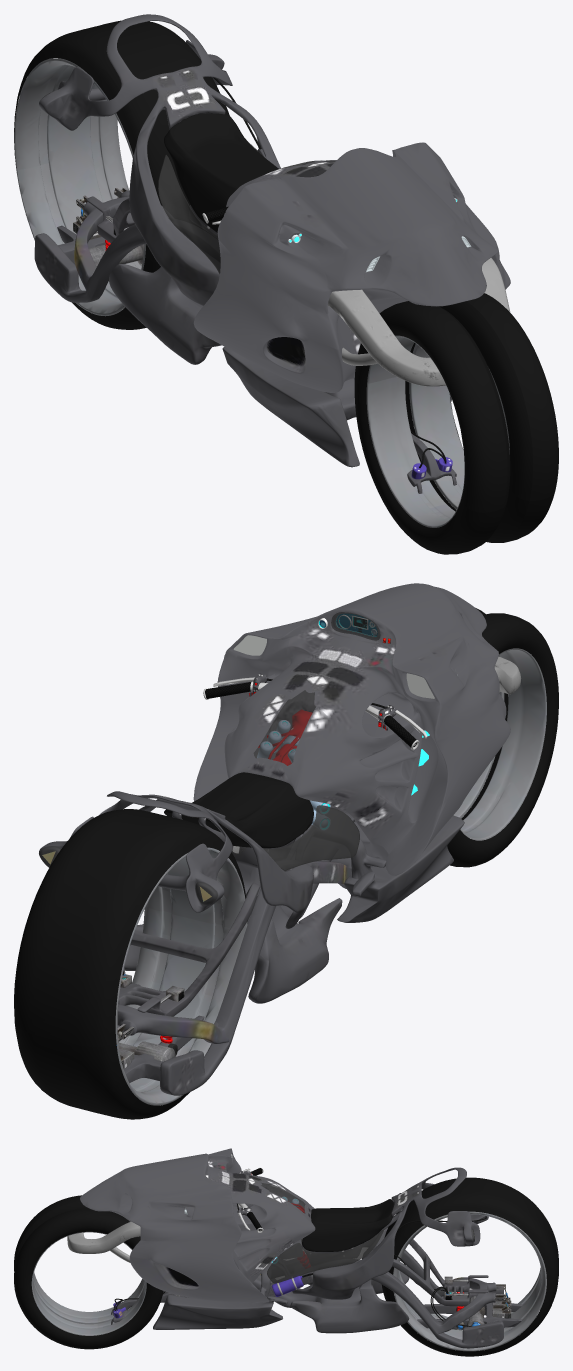
Rendered from phantom-bike.glb.
3 renders of one model, top to bottom at view 1: azimuth 30°, elevation 25°; view 2: azimuth 150°, elevation 25°; view 3: azimuth 270°, elevation 25°, orthographic. The views are drawn at different scales.
Visible parts, largest first — view 1: Cube.028_cor_base02.004_0, Cube.001_Pneu_0, Cube.004_roda_0, Cube.002_cor_base02_0, NurbsPath.002_DefaultMaterial.001_0, Cube.021_cor_base02.003_0, Cube.007_metal02.002_0, Cube.030_metal02.003_0, Cube.014_vidro_0, Cube.022_DefaultMaterial_0, Cube.009_Cromo_0; view 2: Cube.028_cor_base02.004_0, Cube.001_Pneu_0, Cube.004_roda_0, Cube.002_cor_base02_0, Cube.021_cor_base02.003_0, Cube.007_metal02.002_0, Cube.014_vidro_0, NurbsPath.002_DefaultMaterial.001_0, Cube.027_Cromo.004_0, Cube.009_Cromo_0, Cube.023_espelho_0, Cube.011_borracha.001_0 (+2 smaller); view 3: Cube.028_cor_base02.004_0, Cube.001_Pneu_0, Cube.002_cor_base02_0, Cube.021_cor_base02.003_0, Cube.004_roda_0, Cube.007_metal02.002_0, NurbsPath.002_DefaultMaterial.001_0, Cube.014_vidro_0, Cube.030_metal02.003_0, Cube.009_Cromo_0, Cube.022_DefaultMaterial_0.
Boxes of the visible parts, bbox=[...] form: Cube.028_cor_base02.004_0: bbox=[193, 142, 510, 392]; Cube.001_Pneu_0: bbox=[14, 20, 558, 554]; Cube.004_roda_0: bbox=[14, 58, 509, 527]; Cube.002_cor_base02_0: bbox=[39, 14, 451, 467]; NurbsPath.002_DefaultMaterial.001_0: bbox=[164, 77, 446, 468]; Cube.021_cor_base02.003_0: bbox=[86, 196, 221, 364]; Cube.007_metal02.002_0: bbox=[34, 190, 356, 420]; Cube.030_metal02.003_0: bbox=[327, 258, 510, 386]; Cube.014_vidro_0: bbox=[42, 92, 314, 274]; Cube.022_DefaultMaterial_0: bbox=[407, 433, 456, 493]; Cube.009_Cromo_0: bbox=[73, 187, 144, 267]; Cube.028_cor_base02.004_0: bbox=[193, 583, 510, 875]; Cube.001_Pneu_0: bbox=[14, 608, 558, 1119]; Cube.004_roda_0: bbox=[115, 648, 546, 1105]; Cube.002_cor_base02_0: bbox=[39, 791, 464, 928]; Cube.021_cor_base02.003_0: bbox=[118, 859, 342, 1016]; Cube.007_metal02.002_0: bbox=[117, 857, 351, 1095]; Cube.014_vidro_0: bbox=[39, 612, 380, 905]; NurbsPath.002_DefaultMaterial.001_0: bbox=[122, 678, 385, 975]; Cube.027_Cromo.004_0: bbox=[257, 709, 330, 824]; Cube.009_Cromo_0: bbox=[116, 974, 184, 1068]; Cube.023_espelho_0: bbox=[233, 635, 457, 698]; Cube.011_borracha.001_0: bbox=[205, 681, 416, 747]; Cube.028_cor_base02.004_0: bbox=[80, 1148, 315, 1302]; Cube.001_Pneu_0: bbox=[14, 1177, 558, 1356]; Cube.002_cor_base02_0: bbox=[153, 1167, 488, 1329]; Cube.021_cor_base02.003_0: bbox=[252, 1227, 488, 1333]; Cube.004_roda_0: bbox=[31, 1211, 546, 1351]; Cube.007_metal02.002_0: bbox=[258, 1240, 522, 1348]; NurbsPath.002_DefaultMaterial.001_0: bbox=[114, 1199, 486, 1326]; Cube.014_vidro_0: bbox=[261, 1183, 474, 1283]; Cube.030_metal02.003_0: bbox=[67, 1221, 140, 1262]; Cube.009_Cromo_0: bbox=[444, 1276, 511, 1330]; Cube.022_DefaultMaterial_0: bbox=[111, 1275, 462, 1324].
Bounding box in the file's own units: 27813 × 37074 × 95435.
Materials: 30 (20 with a texture image).
